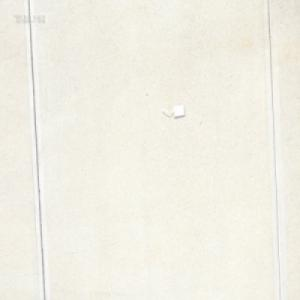LuggageTag: (161, 103, 185, 120)
